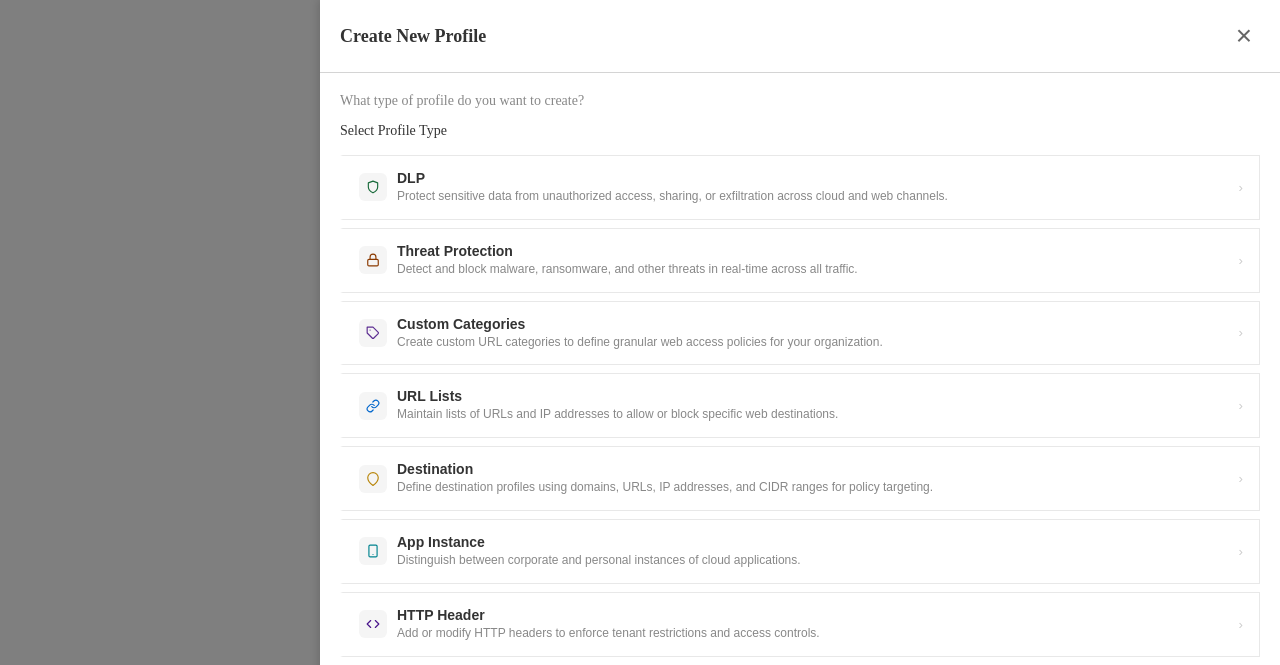
Test: SidePanel › goes straight to form when subtype selected
The image size is (1280, 665).
Click the text "DLP" at (411, 178), box [397, 170, 425, 186]
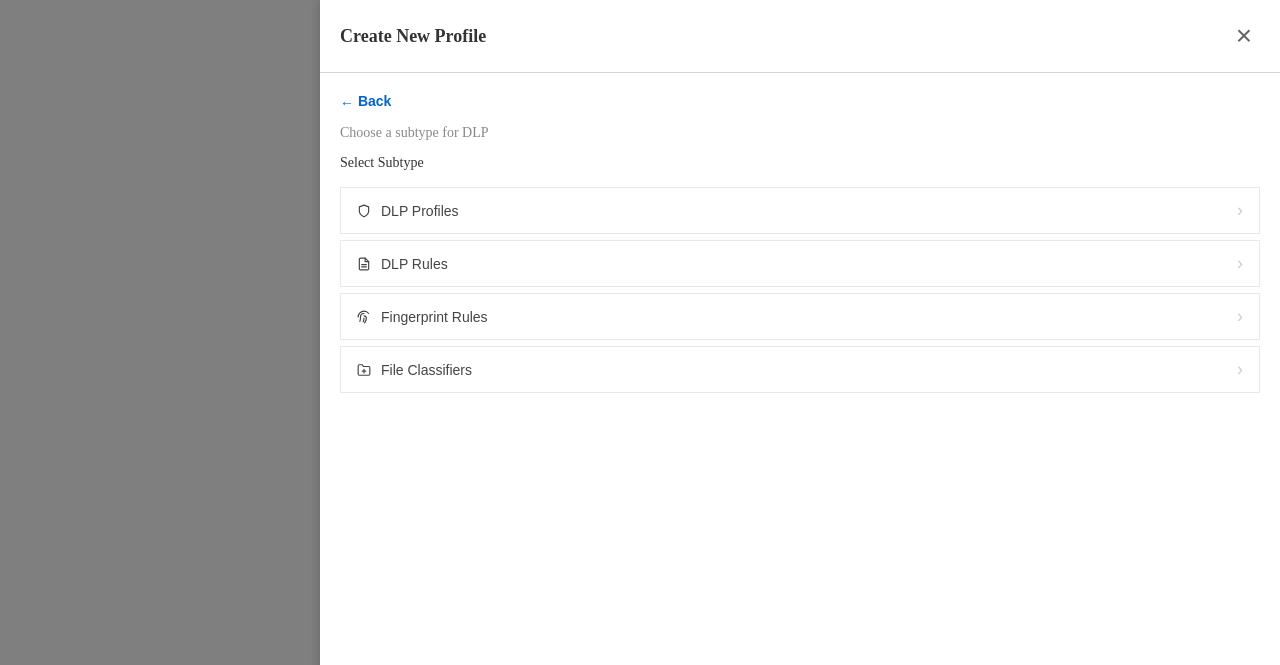
Click the button "Fingerprint Rules" at (434, 316), box [340, 293, 1260, 340]
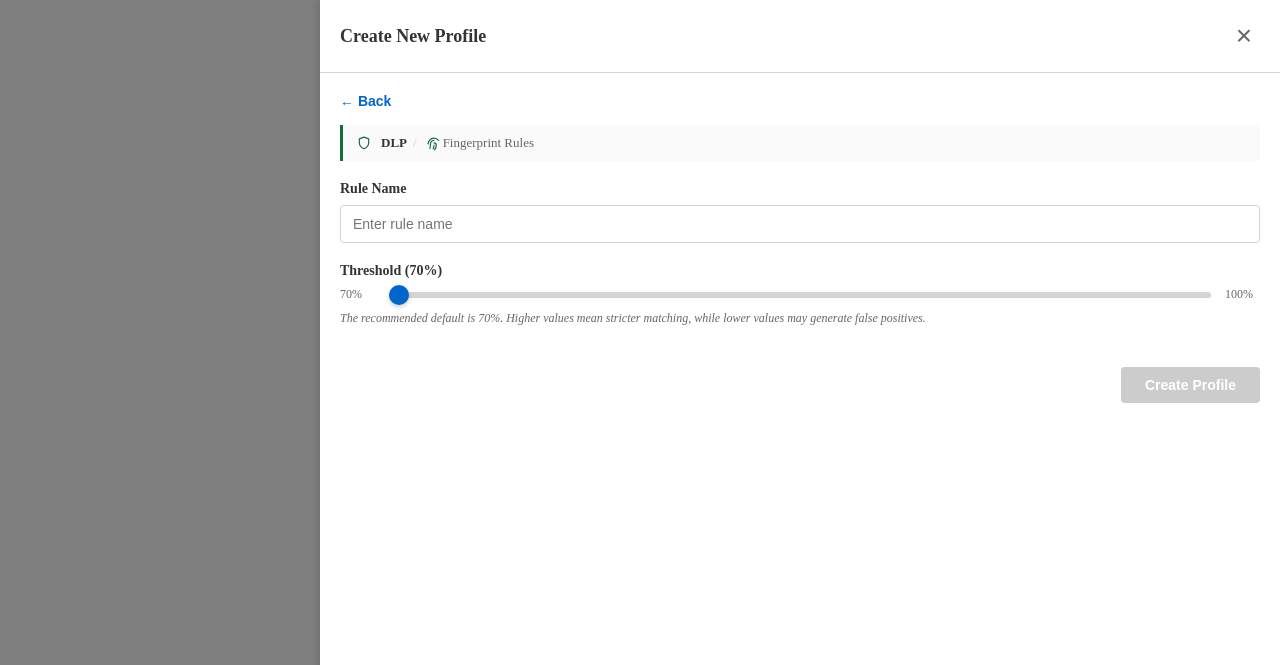
Expected: the field labelled "Rule Name" is shown, [340, 205, 1260, 243]
